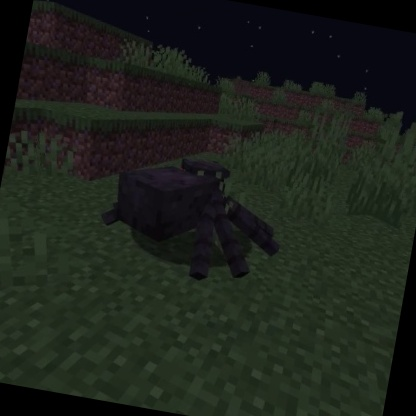spider: (89, 139, 295, 297)
